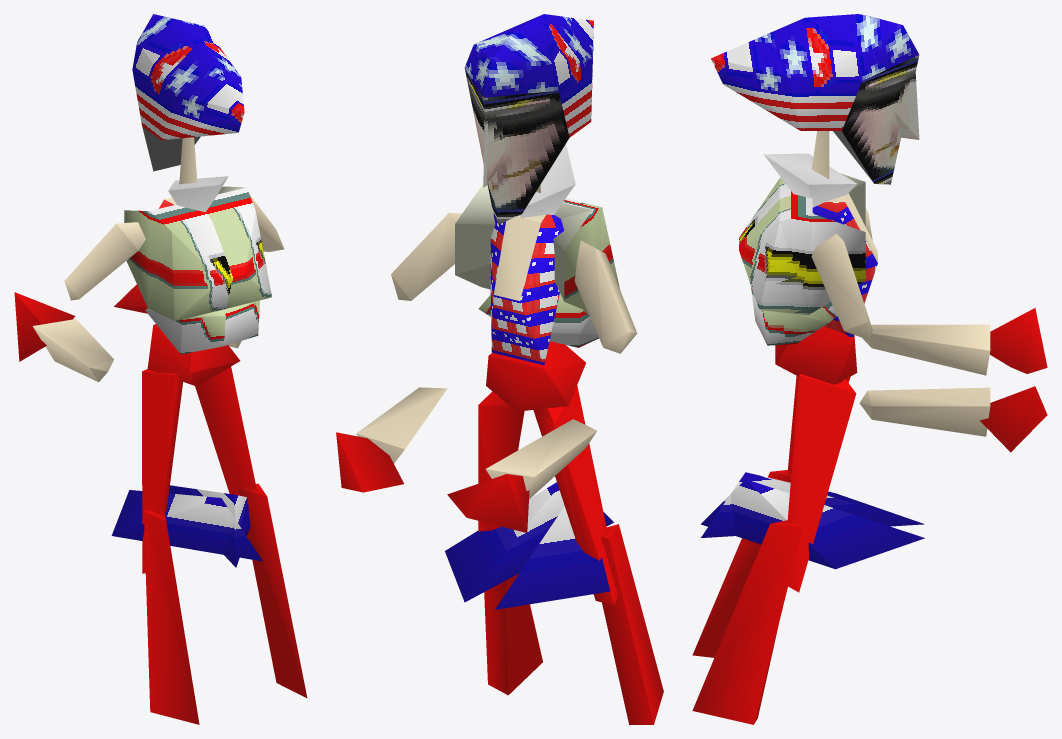
File: uvmd-0336.glb
The picture shows the model from 3 angles, left to right: view 1: azimuth 30°, elevation 25°; view 2: azimuth 150°, elevation 25°; view 3: azimuth 270°, elevation 25°; orthographic projection. The views are drawn at different scales.
Parts seen in each view (by area): view 1: uvmd-0336; view 2: uvmd-0336; view 3: uvmd-0336.
Part boxes in pixels (left/top/right/bottom): uvmd-0336: left=14, top=14, right=307, bottom=724; uvmd-0336: left=336, top=14, right=663, bottom=724; uvmd-0336: left=692, top=14, right=1047, bottom=724.
Bounding box in the file's own units: 63.03 × 182 × 86.83.
6 materials, 6 textured.
